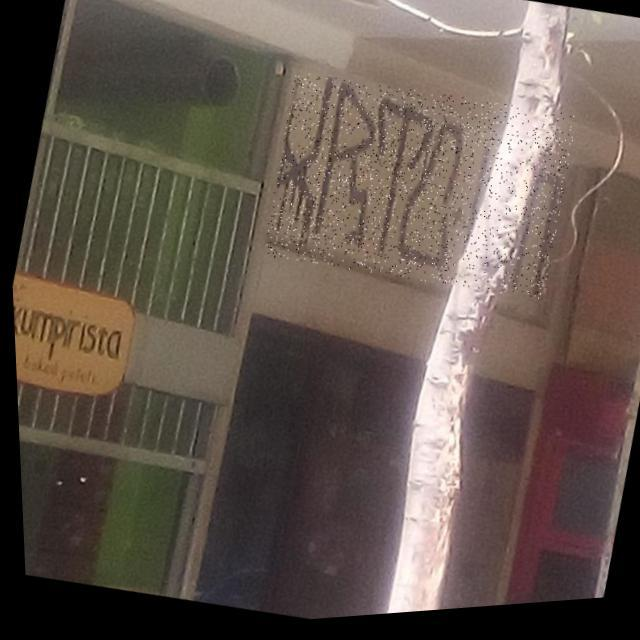-: (252, 59, 582, 324)
